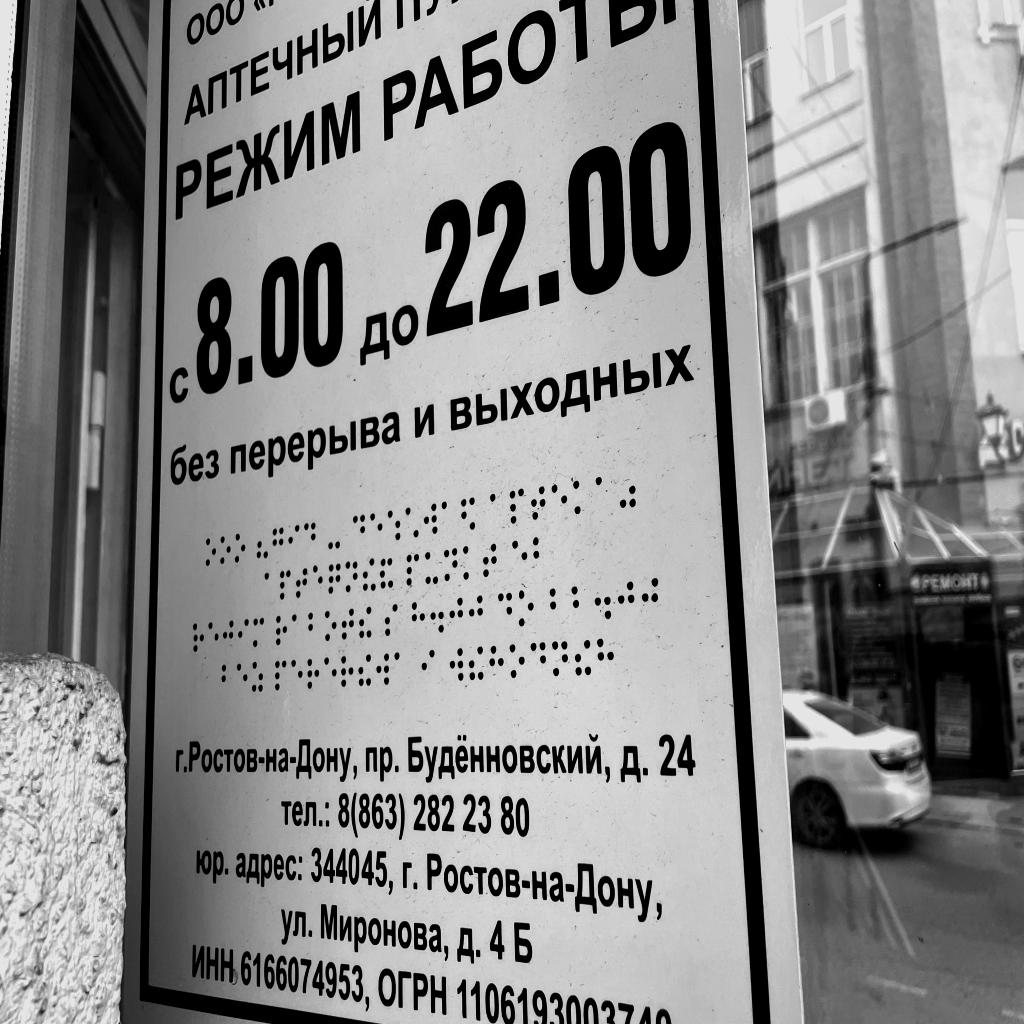_n: (551, 640, 569, 677), (443, 547, 458, 582), (346, 560, 359, 593)
_y: (425, 551, 439, 585)
a: (595, 476, 611, 512), (394, 651, 409, 684), (441, 500, 455, 531), (490, 493, 504, 524), (264, 572, 277, 601), (292, 614, 304, 643)
b: (308, 613, 321, 643), (221, 665, 234, 695)
ch: (328, 562, 341, 596)
d: (530, 640, 547, 677), (498, 592, 513, 627), (351, 514, 367, 546), (304, 522, 317, 551)
defis: (328, 520, 341, 550)
e: (551, 483, 568, 519), (369, 512, 383, 544), (324, 656, 338, 688), (312, 564, 324, 597), (237, 664, 249, 695), (291, 659, 303, 690), (208, 621, 219, 651)
g: (272, 527, 284, 556)
gh: (223, 620, 235, 649)
i: (421, 649, 435, 683), (288, 525, 301, 556), (238, 619, 249, 650)
iKratkoe: (380, 557, 394, 590)
ii: (574, 640, 592, 677), (469, 646, 485, 681), (363, 557, 377, 592), (358, 653, 372, 687), (359, 606, 373, 639)
k: (572, 479, 590, 515), (463, 545, 478, 580)
kavichki1: (256, 530, 269, 559)
kavichki2: (620, 474, 637, 509)
m: (253, 617, 265, 648)
o: (518, 589, 534, 627), (509, 644, 526, 679), (325, 610, 338, 642), (234, 533, 246, 564), (205, 538, 217, 568), (219, 535, 231, 565)
p: (509, 487, 524, 525), (406, 552, 419, 586), (275, 660, 287, 692), (280, 570, 292, 600)
r: (341, 655, 355, 688), (306, 658, 320, 690), (275, 615, 288, 647), (193, 623, 205, 653)
s: (384, 603, 399, 638)
sh: (387, 509, 401, 541)
t: (531, 486, 546, 521), (483, 543, 498, 578), (341, 607, 355, 641), (296, 567, 309, 599)
tochka: (594, 580, 612, 621), (430, 597, 445, 634)
v: (449, 647, 464, 682), (423, 503, 438, 535), (376, 652, 390, 686)
x: (596, 638, 614, 675), (489, 645, 504, 680)
ya: (460, 497, 476, 531)
yo: (405, 506, 419, 538)
z: (251, 661, 264, 693)
